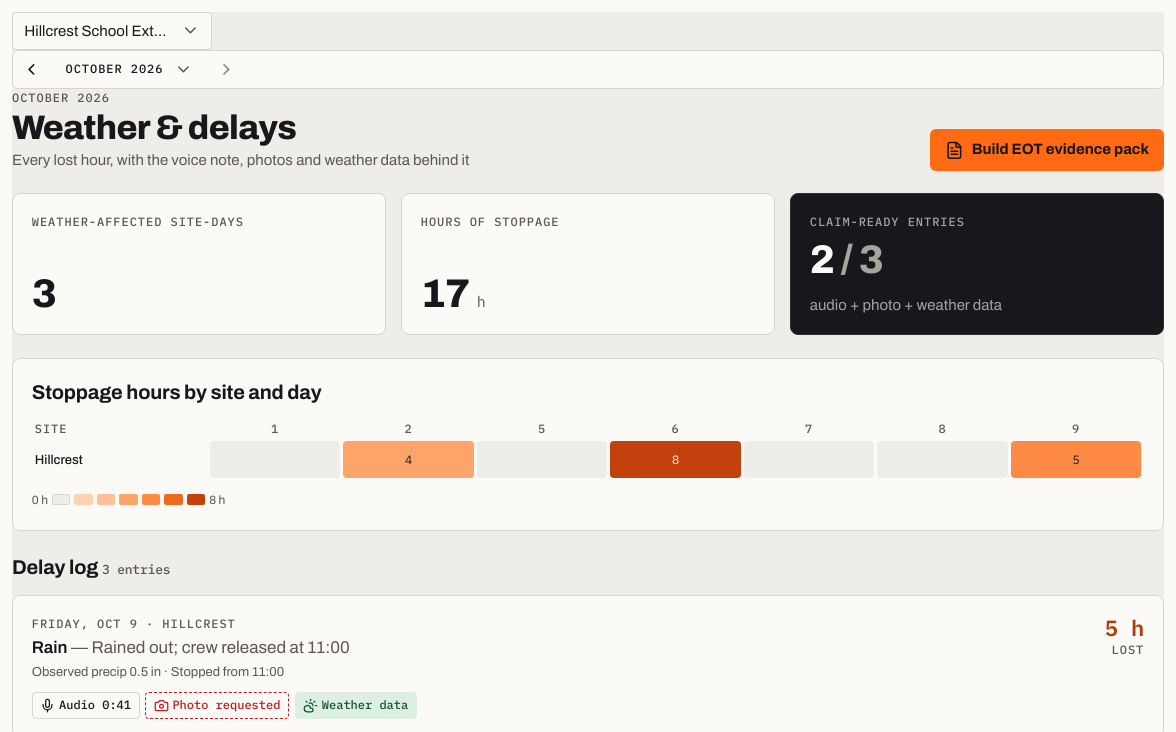
it: WeatherPage edge cases › keeps every site in the picker when filtered and shows only that site in the heatmap
Expected: the text with test id "kpi-site-days" reads "3", 32,272 -> 56,314
Click the dropdown named "Site": click(112, 31) 12,12 -> 212,50
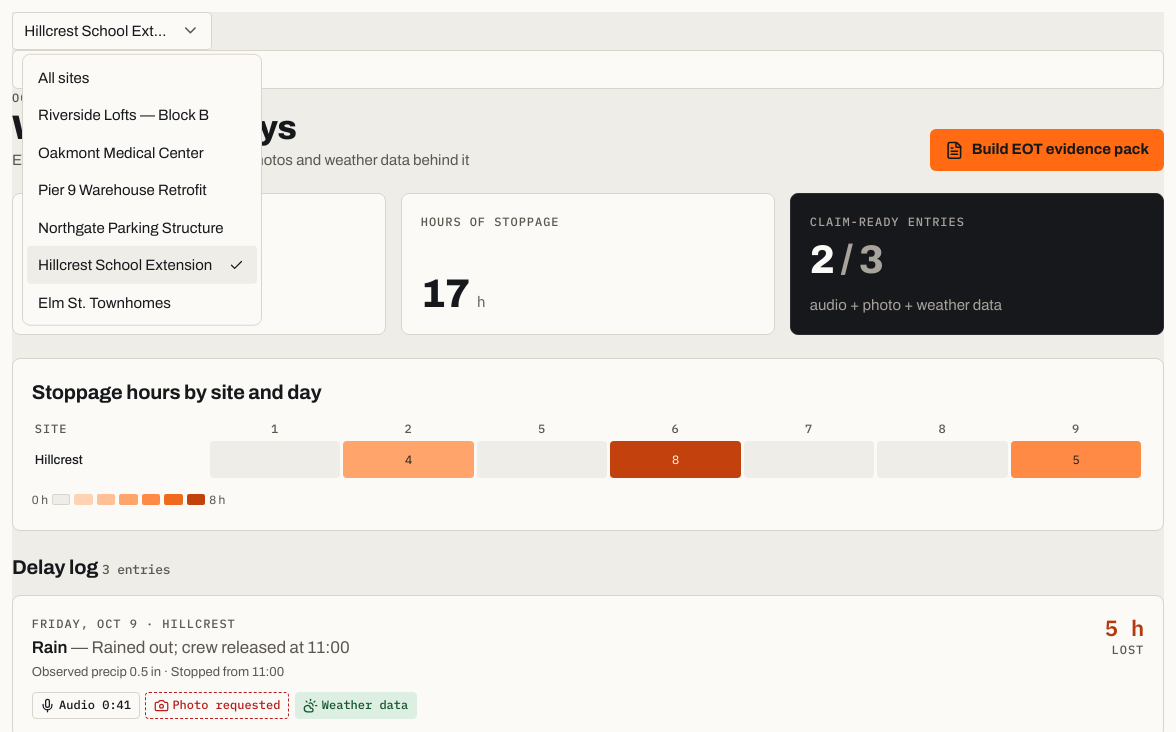
Now the number of options is 7
